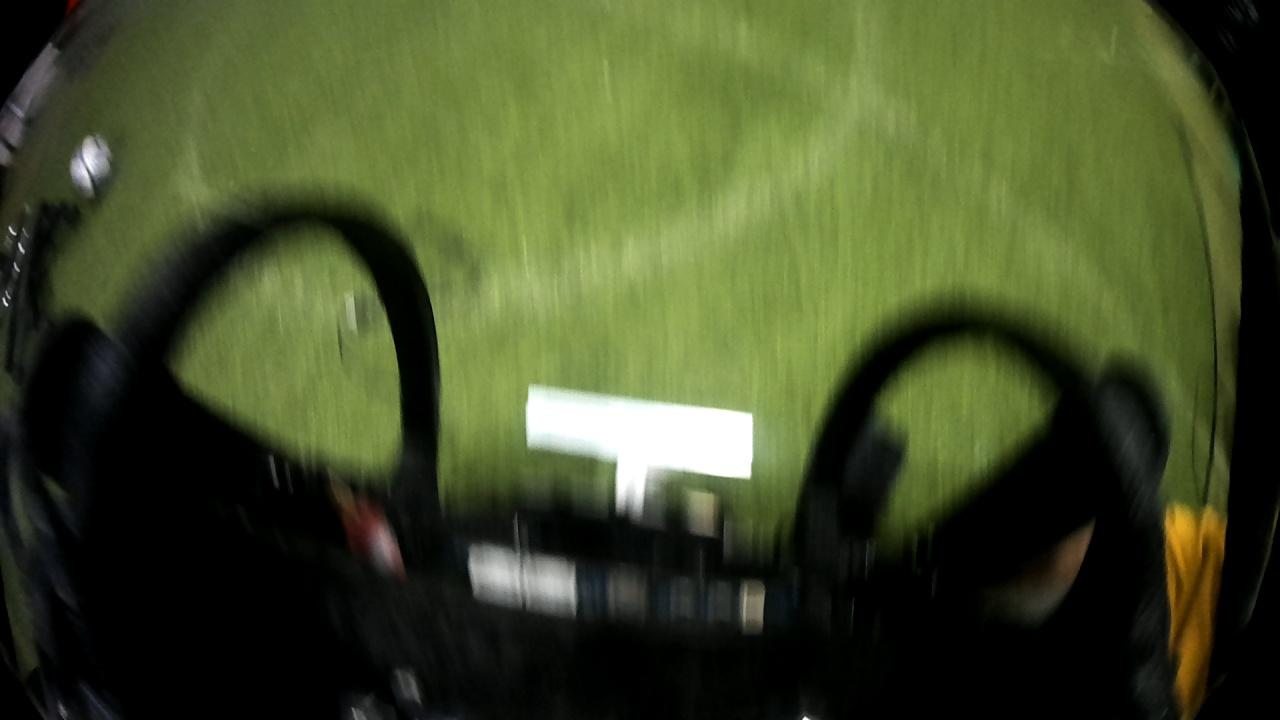ball: (65, 127, 118, 208)
